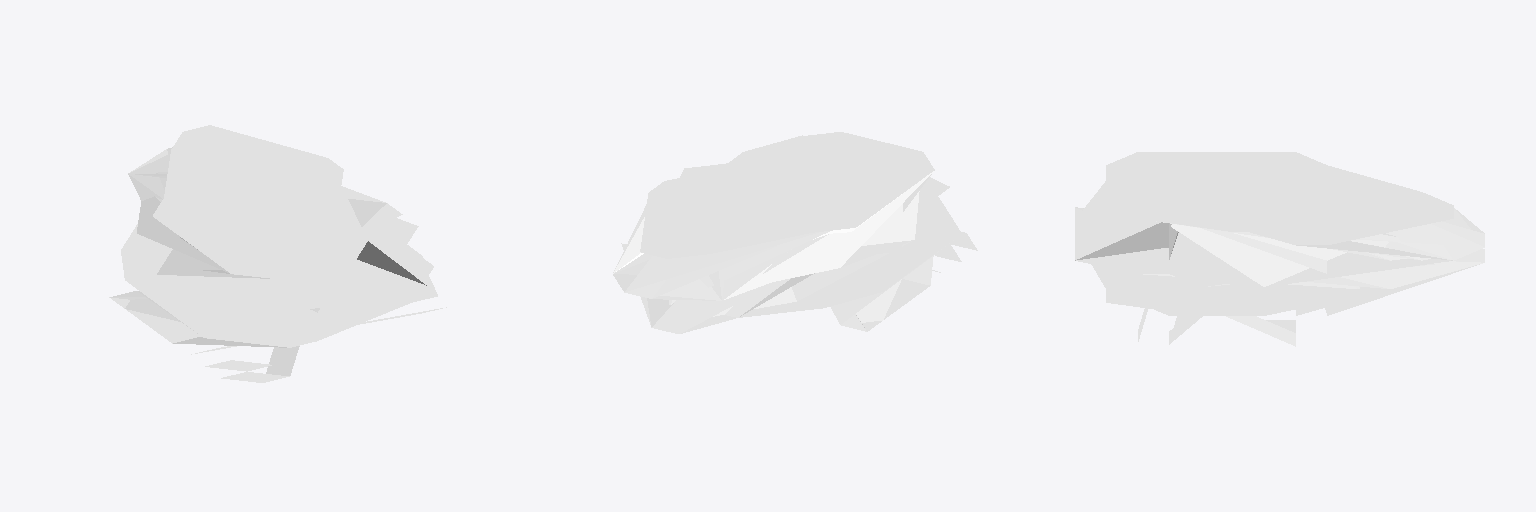
File: Girl.obj
3 views of the same model, side by side, from view 1: azimuth 30°, elevation 25°; view 2: azimuth 150°, elevation 25°; view 3: azimuth 270°, elevation 25° (orthographic).
Bounding box in the file's own units: 9 × 4 × 13.